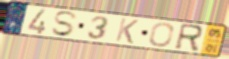3: (87, 16, 111, 41)
4: (25, 8, 47, 35)
K: (114, 17, 141, 45)
O: (147, 22, 175, 48)
R: (172, 23, 204, 54)
S: (49, 10, 79, 38)
